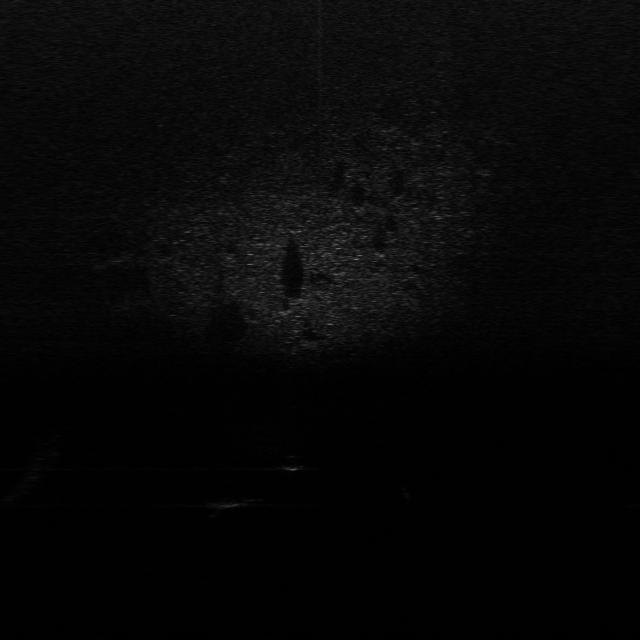ball: (280, 454, 310, 471)
square cage: (204, 494, 260, 510)
